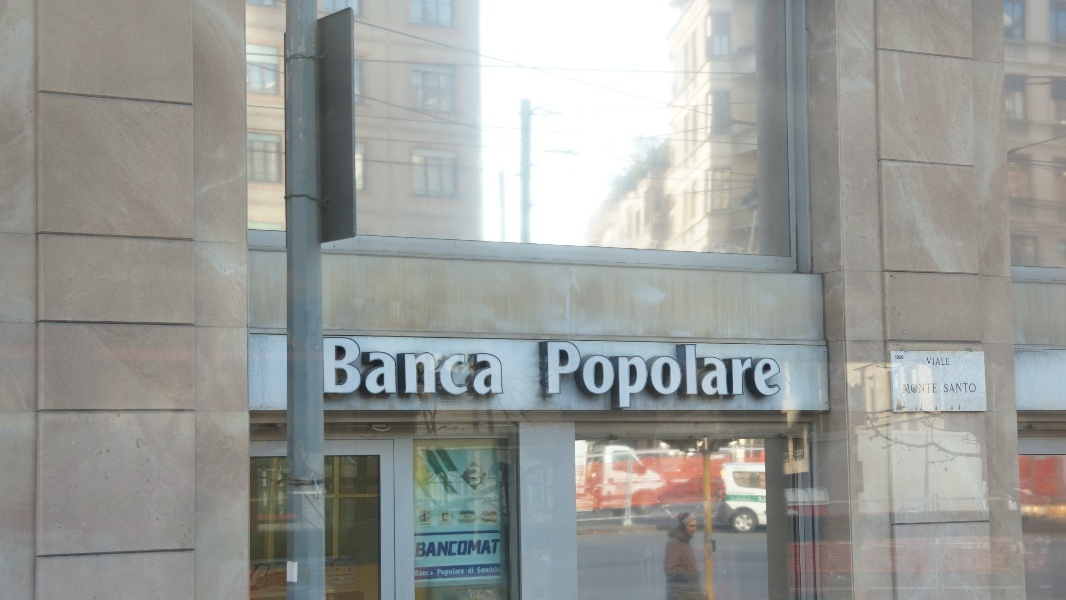text: (545, 341, 560, 410), (561, 341, 576, 410), (577, 341, 592, 410), (593, 341, 608, 410), (609, 341, 624, 410), (625, 341, 640, 410), (641, 341, 656, 410), (657, 341, 672, 410), (673, 341, 688, 410), (689, 341, 704, 410), (705, 341, 720, 410), (721, 341, 736, 410), (737, 341, 752, 410), (753, 341, 768, 410), (769, 341, 783, 410), (321, 336, 336, 398), (337, 336, 352, 398), (353, 336, 368, 398), (369, 336, 384, 398), (385, 336, 400, 398), (401, 336, 416, 398), (417, 336, 432, 398), (433, 336, 448, 398), (449, 336, 464, 398), (465, 336, 480, 398), (481, 336, 496, 398), (497, 336, 506, 398), (538, 341, 544, 410), (417, 539, 432, 557), (433, 539, 448, 557), (449, 539, 464, 557), (465, 539, 480, 557), (481, 539, 496, 557), (469, 467, 480, 486), (961, 383, 977, 394), (913, 383, 928, 394), (945, 383, 960, 394), (419, 511, 432, 523), (449, 568, 465, 577), (929, 358, 944, 366), (481, 566, 496, 574), (929, 383, 939, 394), (465, 586, 480, 593), (481, 586, 496, 593), (417, 570, 432, 577), (437, 568, 448, 577), (468, 567, 480, 575), (904, 383, 912, 394), (481, 515, 496, 520), (497, 539, 501, 557), (454, 586, 464, 593), (419, 522, 432, 527), (757, 497, 768, 502), (945, 358, 951, 366), (897, 355, 905, 360), (481, 467, 483, 486), (497, 566, 501, 574), (465, 515, 472, 519), (440, 521, 448, 524), (477, 566, 480, 574), (926, 358, 928, 366), (497, 515, 499, 520), (449, 521, 452, 524), (497, 586, 498, 593), (415, 570, 416, 577), (433, 570, 434, 577)
